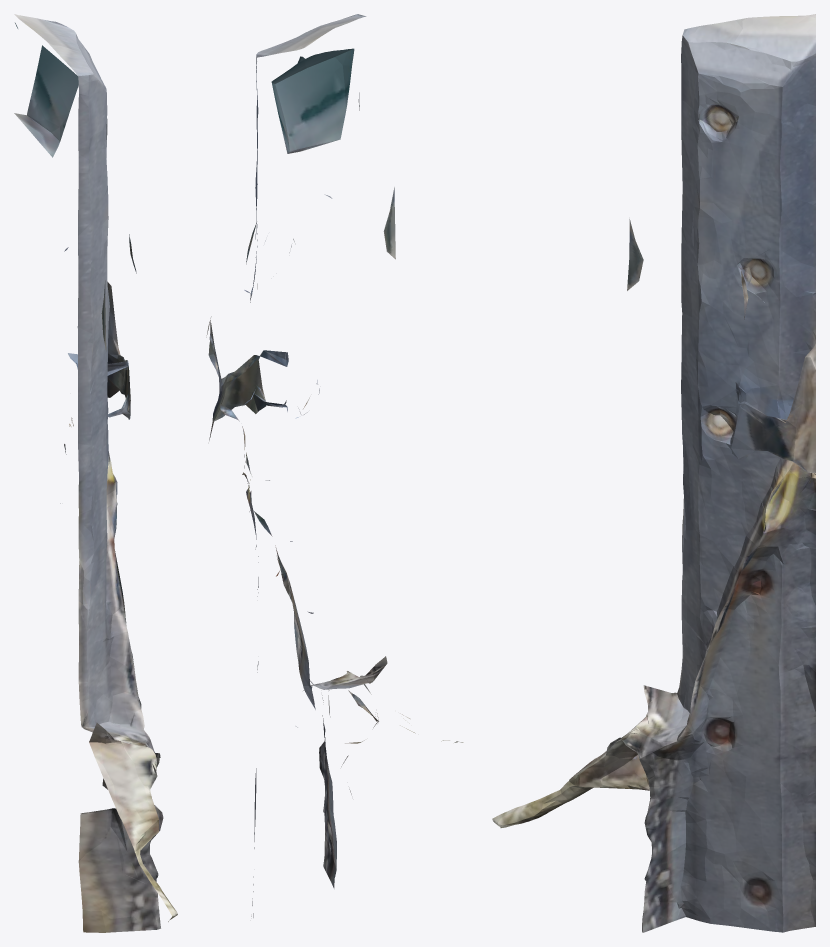
3 renders of one model, left to right at view 1: azimuth 30°, elevation 25°; view 2: azimuth 150°, elevation 25°; view 3: azimuth 270°, elevation 25°, orthographic. The views are drawn at different scales.
Bounding box in the file's own units: 0.2308 × 2.02 × 0.6667.
1 material, 1 textured.
